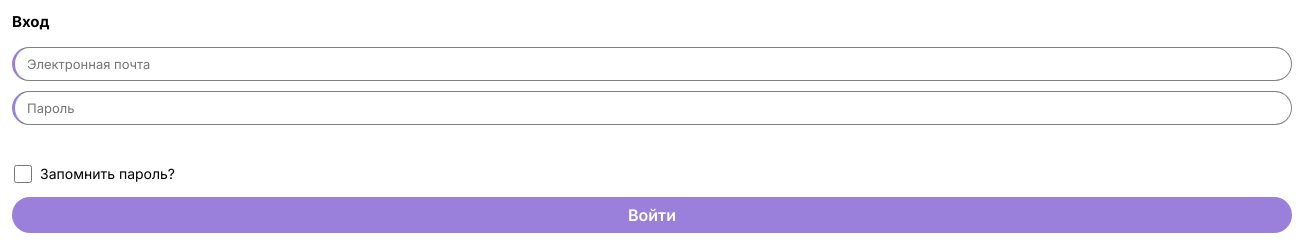
Test: AuthForm › проверка полей › короткий пароль считается неверным
Type "abc1" into the password field labelled "Пароль". click: coordinates (652, 108)
box: [12, 90, 1292, 124]
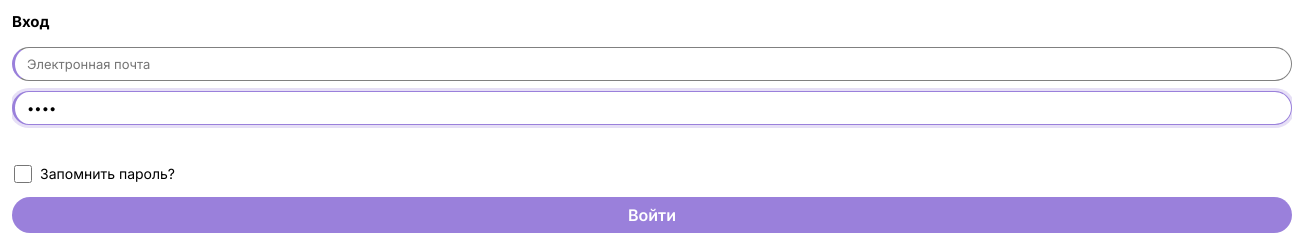
Press Tab
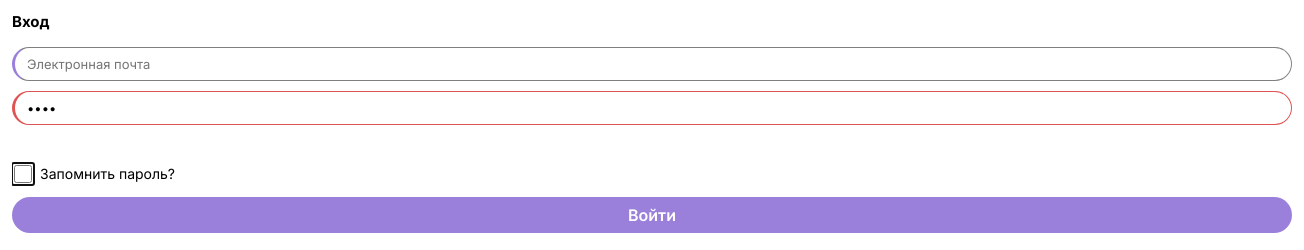
Expected: the password field named "Пароль" is marked as invalid, [12, 90, 1292, 124]
